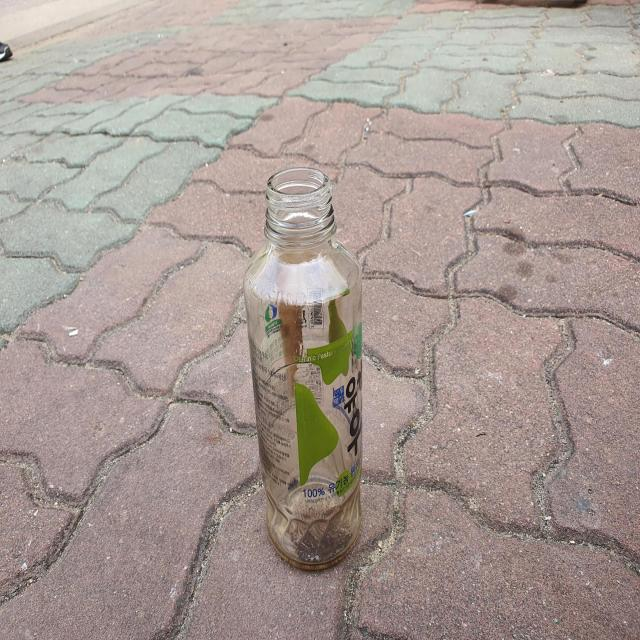glass: (244, 167, 362, 570)
